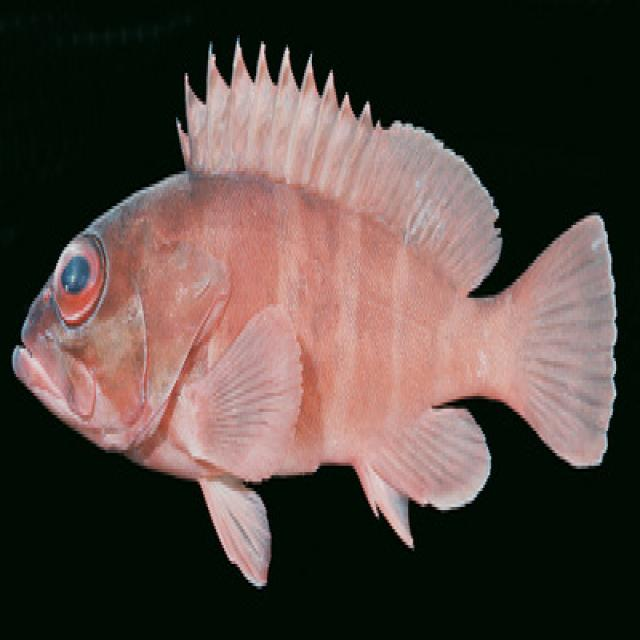ikan: (11, 35, 618, 589)
